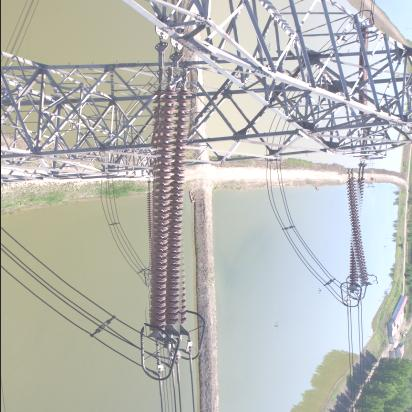insulator: (149, 68, 194, 339), (344, 170, 373, 288)
